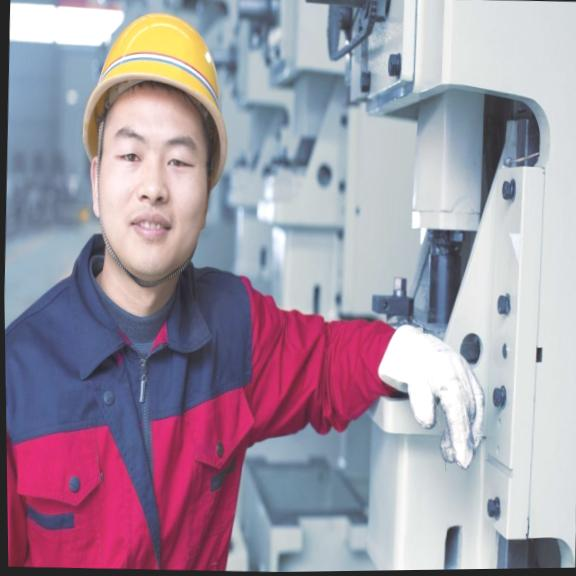no_safety_vest: (4, 273, 304, 576)
